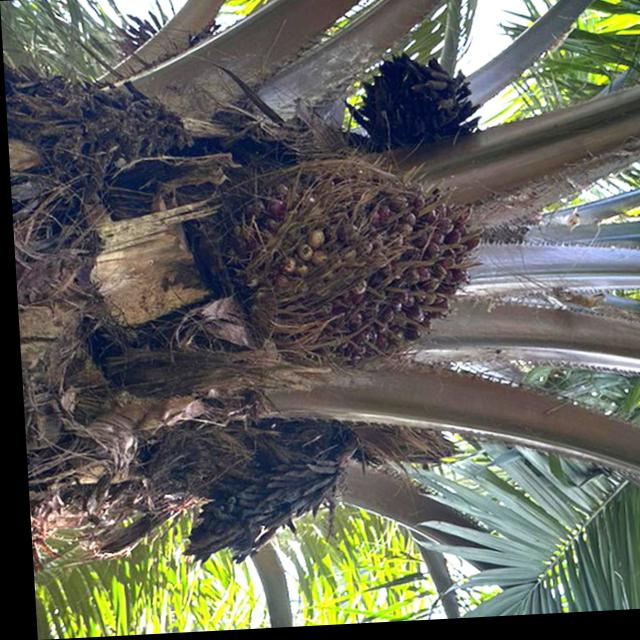ripe: (233, 151, 495, 383)
